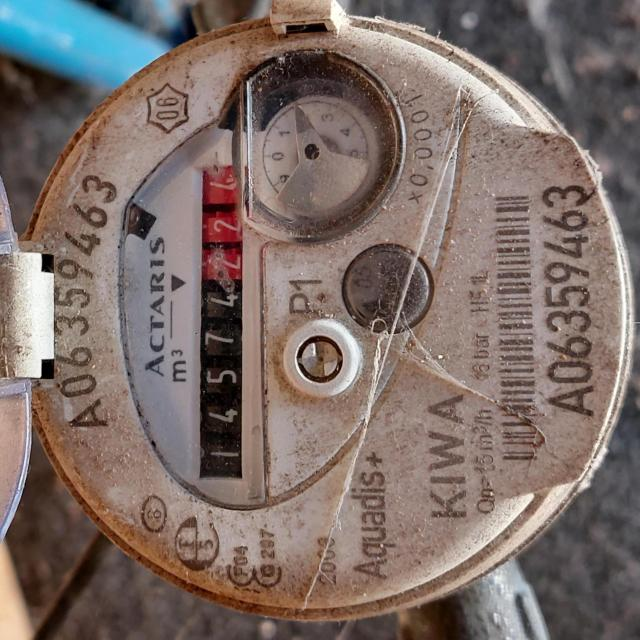gaz_meter: (29, 17, 630, 618)
indication: (190, 155, 244, 482)
